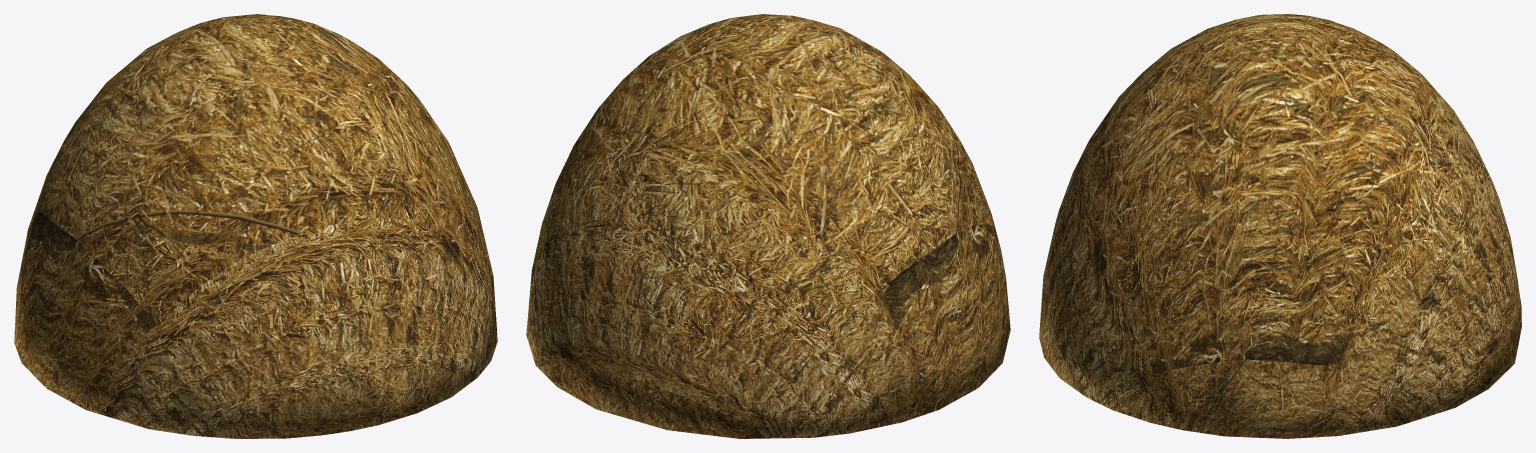
File: hay.fbx
The picture shows the model from 3 angles, left to right: view 1: azimuth 30°, elevation 25°; view 2: azimuth 150°, elevation 25°; view 3: azimuth 270°, elevation 25°; orthographic projection.
Parts seen in each view (by area): view 1: Sphere; view 2: Sphere; view 3: Sphere.
Boxes of the visible parts, x1,y1,x2,y2 form: Sphere: (14,14,497,438); Sphere: (526,14,1010,438); Sphere: (1039,14,1521,438).
Size of the model in its own units: 401 by 280 by 400.
1 material, 1 textured.
